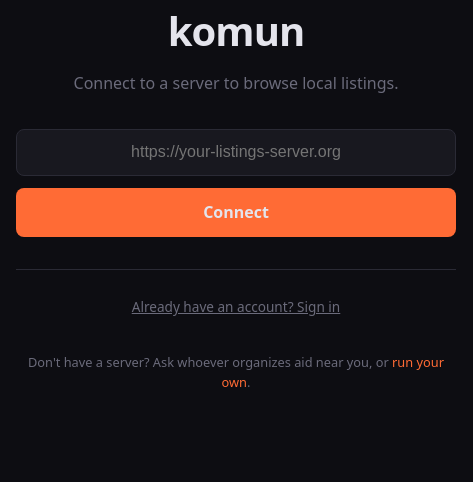
Test: connect page › T2: a server on another origin is refused with the reason
This screenshot has width=473, height=482.
Type "https://other.example" into the field at [236, 152], box x1=16 y1=129 x2=456 y2=176
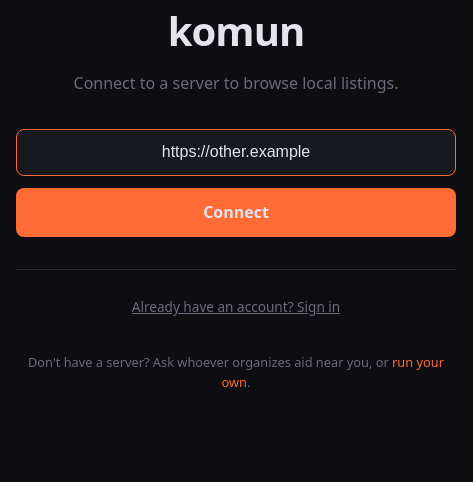
Click the button "Connect" at [236, 213], box x1=16 y1=188 x2=456 y2=237
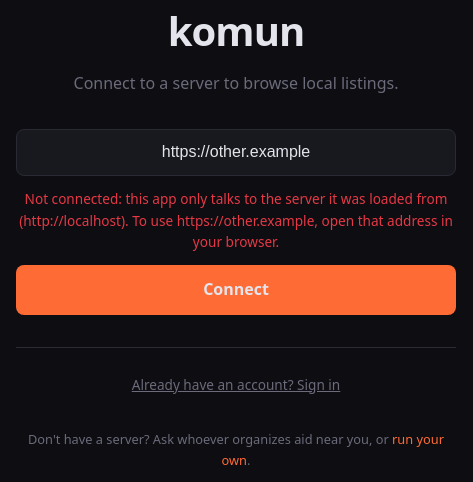
Check: the message shows "Not connected", box x1=19 y1=189 x2=453 y2=251
Check: the message shows "http://localhost", box x1=19 y1=189 x2=453 y2=251
Check: the message shows "https://other.example", box x1=19 y1=189 x2=453 y2=251
